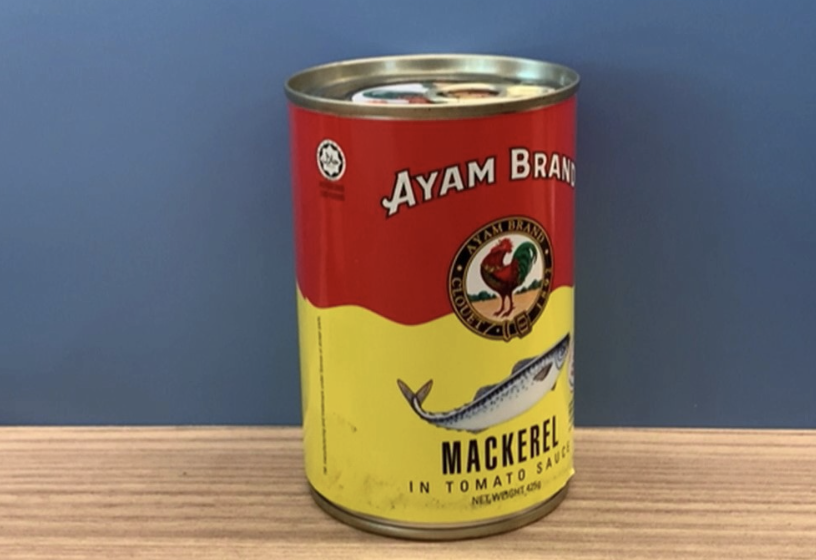sardines_450g: (308, 88, 575, 506)
